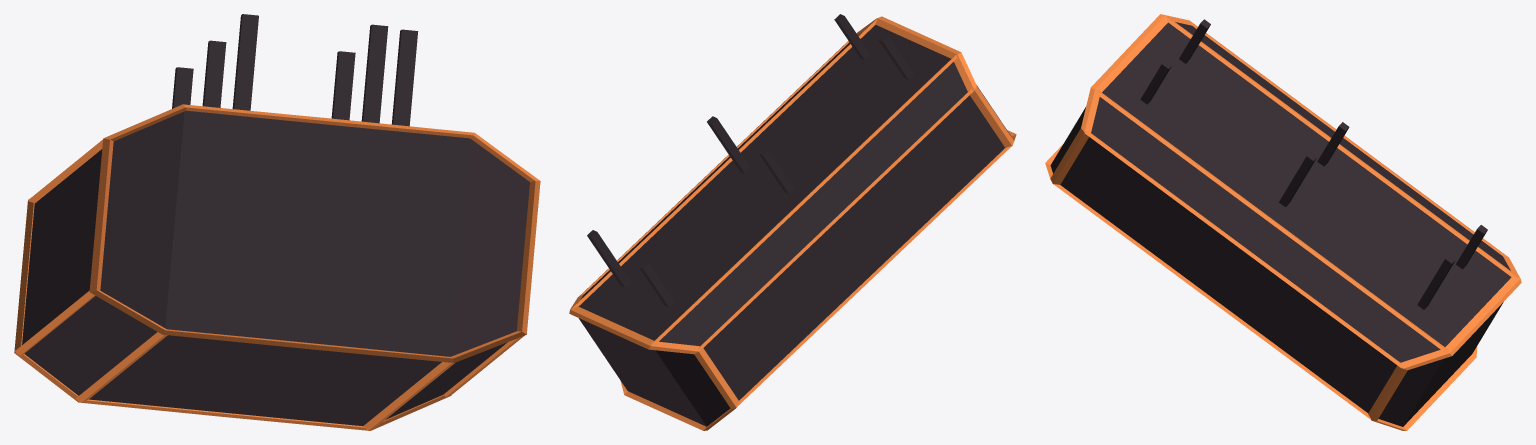
The model's file is F2.Cargo.002.fbx.
3 renders of one model, left to right at view 1: azimuth 30°, elevation 25°; view 2: azimuth 150°, elevation 25°; view 3: azimuth 270°, elevation 25°, orthographic. The views are drawn at different scales.
Visible parts, largest first — view 1: F2.Cargo.002; view 2: F2.Cargo.002; view 3: F2.Cargo.002.
Part boxes in pixels (x1,y1,x2,y2): F2.Cargo.002: (14,14,540,430); F2.Cargo.002: (569,14,1016,430); F2.Cargo.002: (1045,14,1521,430).
Size of the model in its own units: 1695 by 1684 by 2199.
